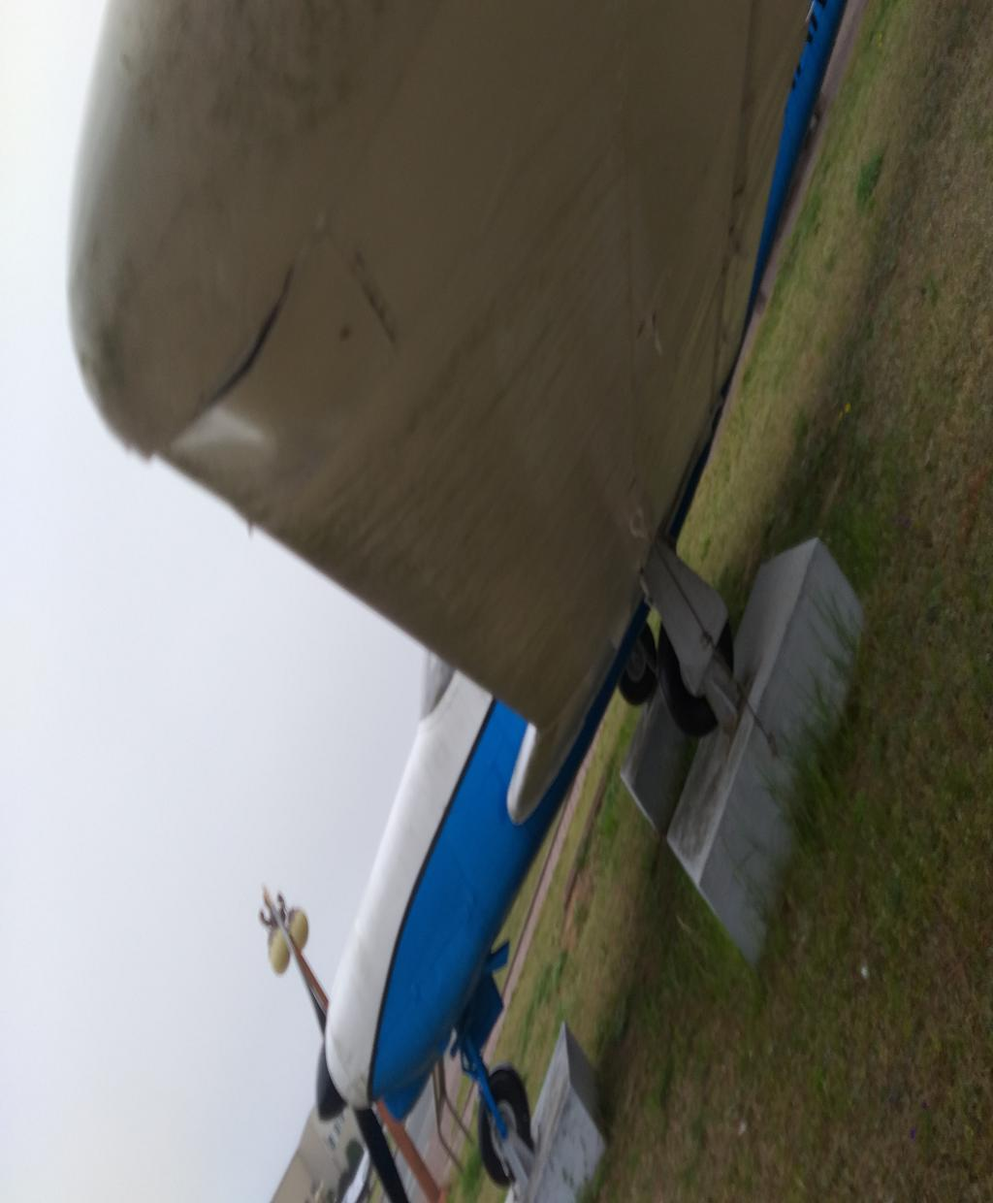dent: (326, 352, 395, 595)
